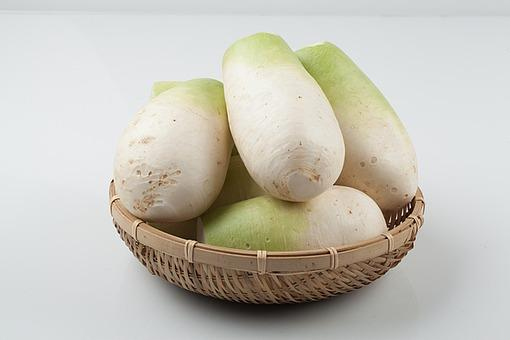radish: (179, 17, 273, 106), (85, 40, 192, 118), (249, 22, 335, 109), (155, 98, 311, 136)
